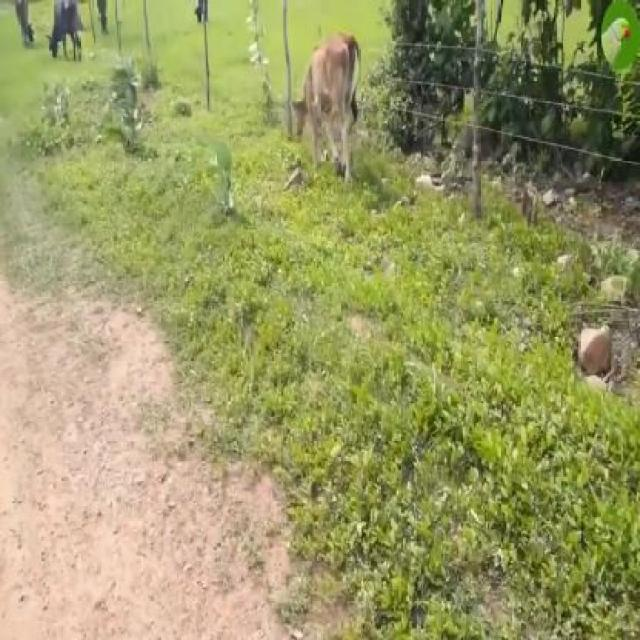Cow: (292, 32, 360, 185)
